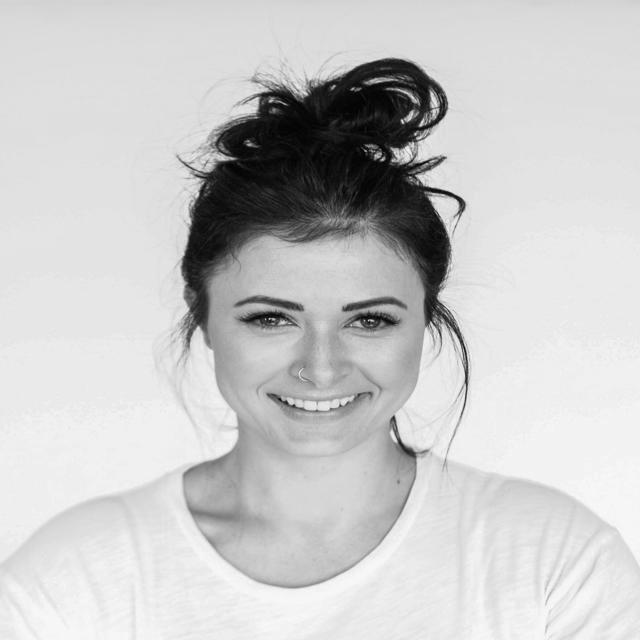Happiness: (205, 222, 424, 459)
